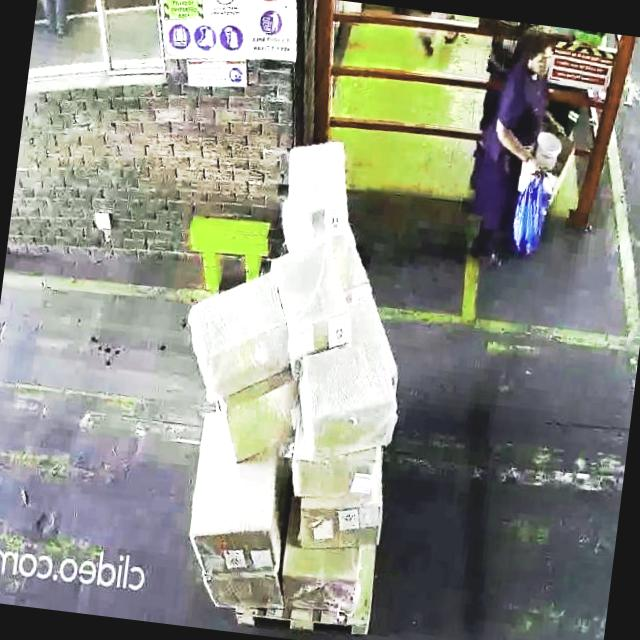Box: (292, 332, 406, 472), (184, 276, 292, 396), (186, 448, 282, 578), (282, 230, 356, 346), (220, 366, 300, 468), (280, 131, 356, 237), (274, 540, 360, 620), (292, 490, 383, 562), (287, 444, 381, 505), (199, 564, 282, 616)
